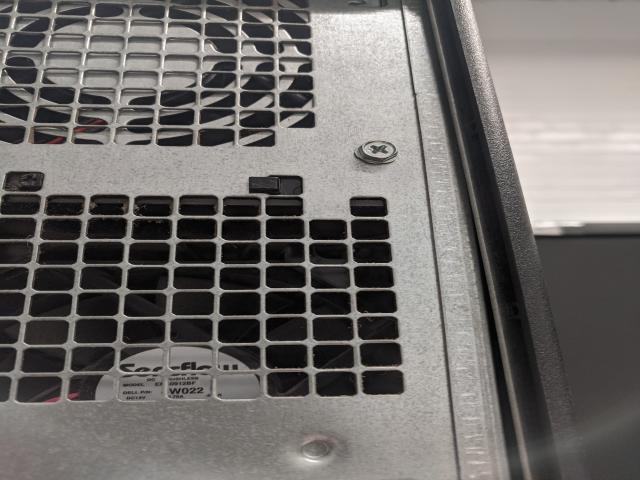CRS: (356, 137, 398, 165)
